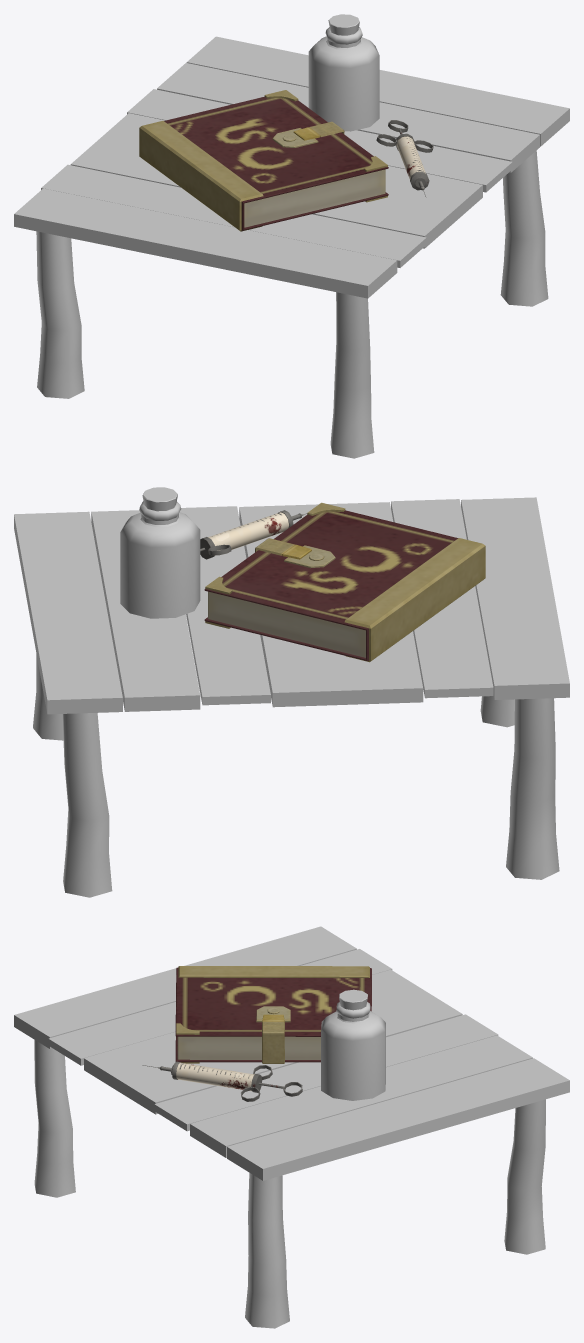
Rendered from Old_Medical_Set.fbx.
3 renders of one model, top to bottom at view 1: azimuth 30°, elevation 25°; view 2: azimuth 150°, elevation 25°; view 3: azimuth 270°, elevation 25°, orthographic. The views are drawn at different scales.
Parts seen in each view (by area): view 1: Table, Book3, Bottle_01, Syringe2; view 2: Table, Book3, Bottle_01, Syringe2; view 3: Table, Book3, Bottle_01, Syringe2.
Part boxes in pixels (left/top/right/bottom): Table: left=14, top=36, right=569, bottom=458; Book3: left=139, top=90, right=388, bottom=231; Bottle_01: left=308, top=14, right=379, bottom=131; Syringe2: left=376, top=120, right=433, bottom=197; Table: left=14, top=497, right=569, bottom=897; Book3: left=204, top=502, right=485, bottom=662; Bottle_01: left=120, top=487, right=200, bottom=618; Syringe2: left=200, top=510, right=306, bottom=559; Table: left=14, top=926, right=569, bottom=1328; Book3: left=175, top=966, right=371, bottom=1063; Bottle_01: left=321, top=989, right=385, bottom=1100; Syringe2: left=142, top=1061, right=302, bottom=1101.
Bounding box in the file's own units: 14.52 × 7.29 × 14.06.
